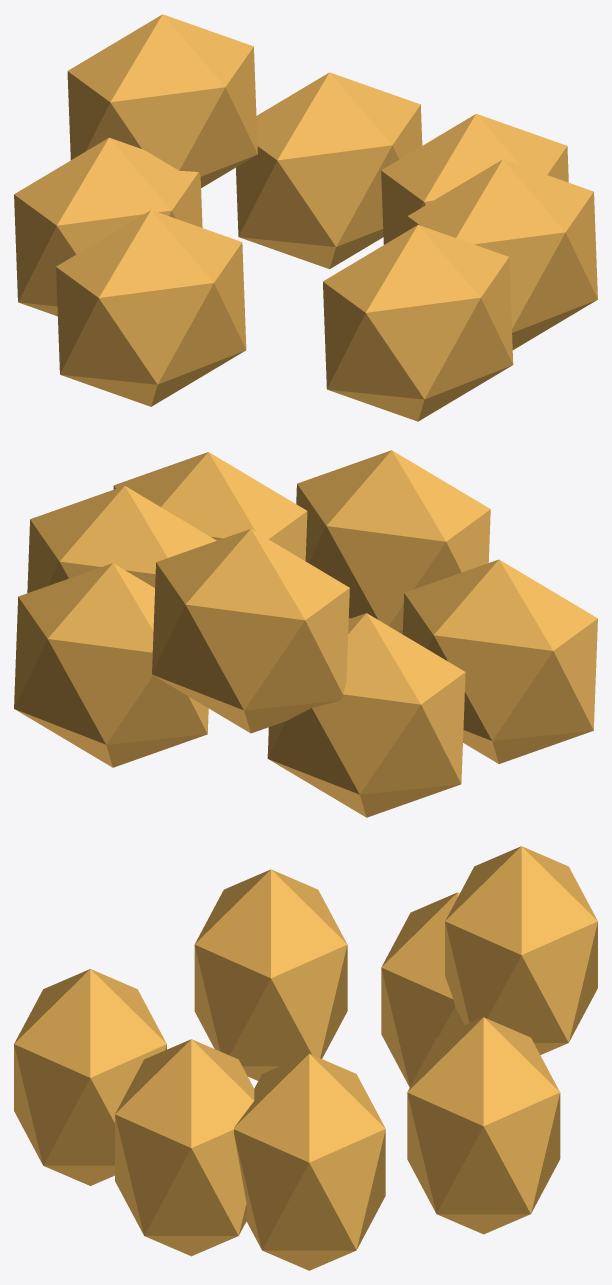
Rendered from CC_ResourceGrain.fbx.
The picture shows the model from 3 angles, top to bottom: view 1: azimuth 30°, elevation 25°; view 2: azimuth 150°, elevation 25°; view 3: azimuth 270°, elevation 25°; orthographic projection. The views are drawn at different scales.
Visible parts, largest first — view 1: Seed.002, Seed.004, Seed.003, Seed.006, Seed.005, Seed.001, Seed; view 2: Seed.006, Seed.004, Seed.003, Seed.001, Seed.002, Seed, Seed.005; view 3: Seed.003, Seed, Seed.004, Seed.006, Seed.005, Seed.002, Seed.001.
Part boxes in pixels (bbox=[...]): Seed.002: bbox=[323, 225, 513, 421]; Seed.004: bbox=[56, 210, 246, 406]; Seed.003: bbox=[236, 72, 422, 269]; Seed.006: bbox=[67, 14, 257, 187]; Seed.005: bbox=[407, 159, 597, 349]; Seed.001: bbox=[14, 137, 202, 316]; Seed: bbox=[381, 113, 568, 244]; Seed.006: bbox=[152, 529, 349, 733]; Seed.004: bbox=[402, 559, 597, 763]; Seed.003: bbox=[14, 563, 208, 767]; Seed.001: bbox=[267, 613, 465, 817]; Seed.002: bbox=[296, 450, 490, 634]; Seed: bbox=[27, 486, 216, 592]; Seed.005: bbox=[113, 452, 307, 560]; Seed.003: bbox=[407, 1017, 560, 1234]; Seed: bbox=[234, 1053, 385, 1270]; Seed.004: bbox=[194, 869, 347, 1080]; Seed.006: bbox=[445, 846, 597, 1054]; Seed.005: bbox=[115, 1039, 254, 1256]; Seed.002: bbox=[14, 969, 166, 1185]; Seed.001: bbox=[381, 892, 464, 1087].
Bounding box in the file's own units: 0.6692 × 0.34 × 0.5847.
